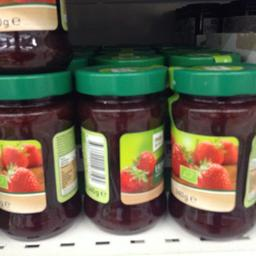jam: (72, 63, 169, 234), (166, 62, 255, 238), (0, 72, 78, 241)
